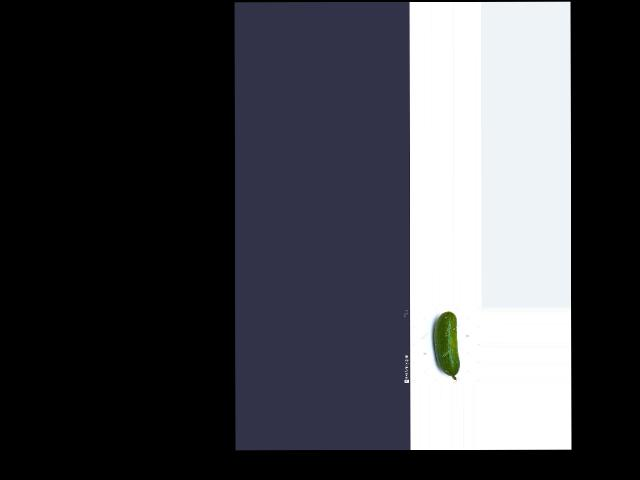cucumber: (433, 310, 459, 380)
